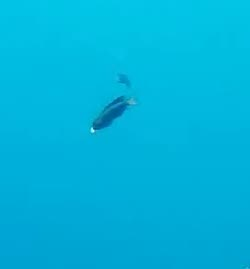smallfish: (82, 87, 139, 142)
